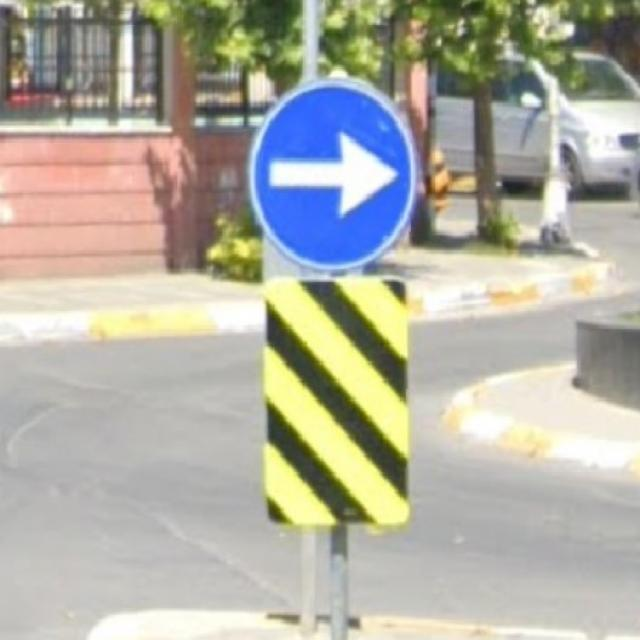Turn Right: (250, 87, 419, 273)
